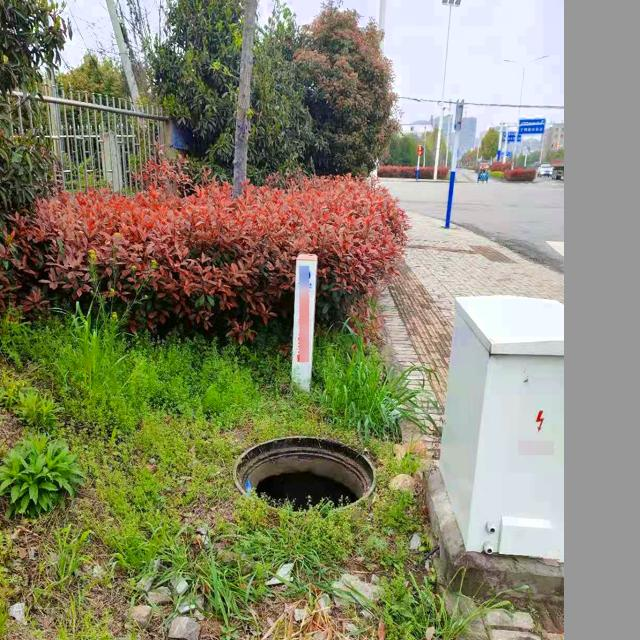lose: (226, 425, 383, 510)
